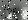person: (23, 8, 28, 20), (9, 6, 13, 19)
